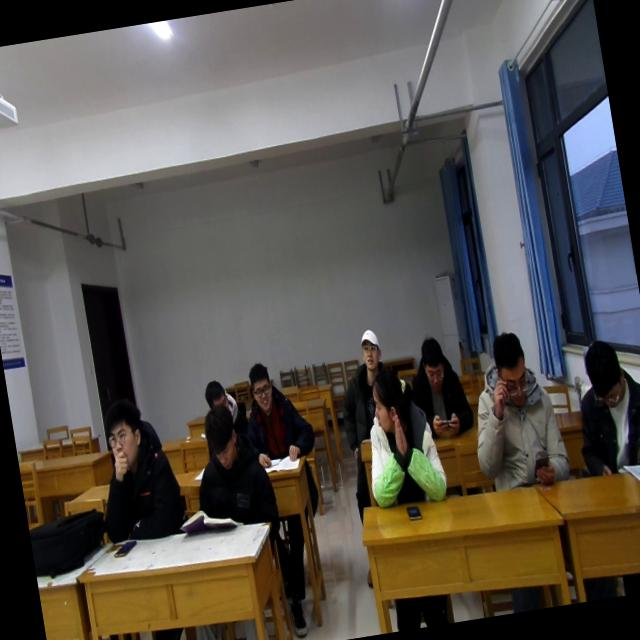down: (487, 328, 538, 418), (576, 334, 630, 413), (200, 400, 244, 477), (414, 329, 451, 397), (200, 376, 232, 419)
lookup: (98, 394, 150, 477), (244, 360, 278, 420), (354, 322, 385, 373)
sit: (458, 322, 571, 490), (85, 398, 186, 553), (354, 368, 451, 512), (187, 403, 281, 537), (566, 331, 640, 479), (238, 355, 320, 472), (330, 323, 405, 442), (406, 334, 474, 437), (192, 365, 246, 430)
